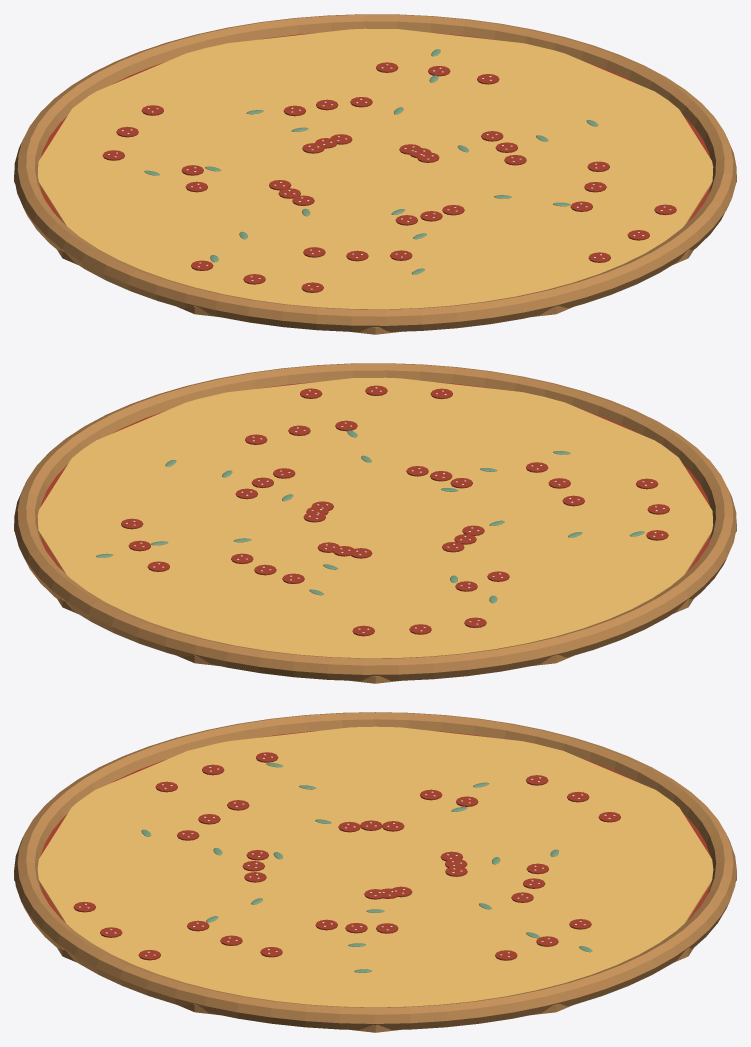
The model's file is pizza.glb.
3 renders of one model, top to bottom at view 1: azimuth 30°, elevation 25°; view 2: azimuth 150°, elevation 25°; view 3: azimuth 270°, elevation 25°, orthographic.
Parts seen in each view (by area): view 1: Pizza; view 2: Pizza; view 3: Pizza.
Part boxes in pixels (left/top/right/bottom): Pizza: left=14, top=14, right=736, bottom=334; Pizza: left=14, top=363, right=736, bottom=683; Pizza: left=14, top=712, right=736, bottom=1032.
Size of the model in its own units: 35.6 by 1.2 by 35.6.
